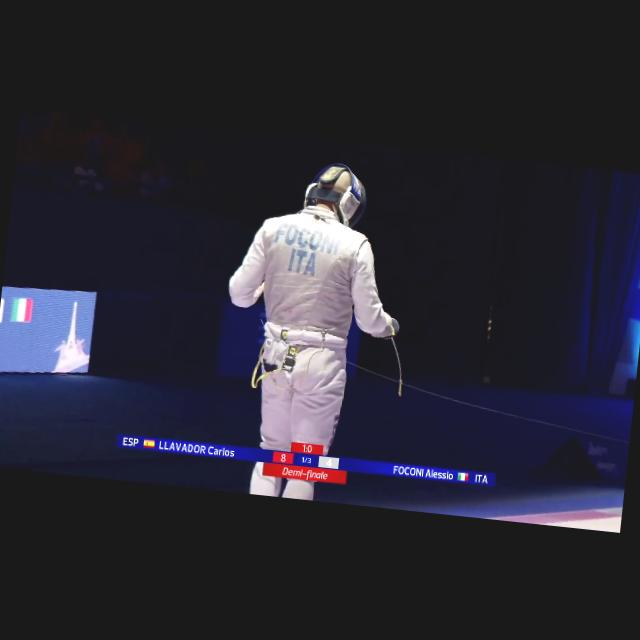blade: (376, 318, 419, 402)
